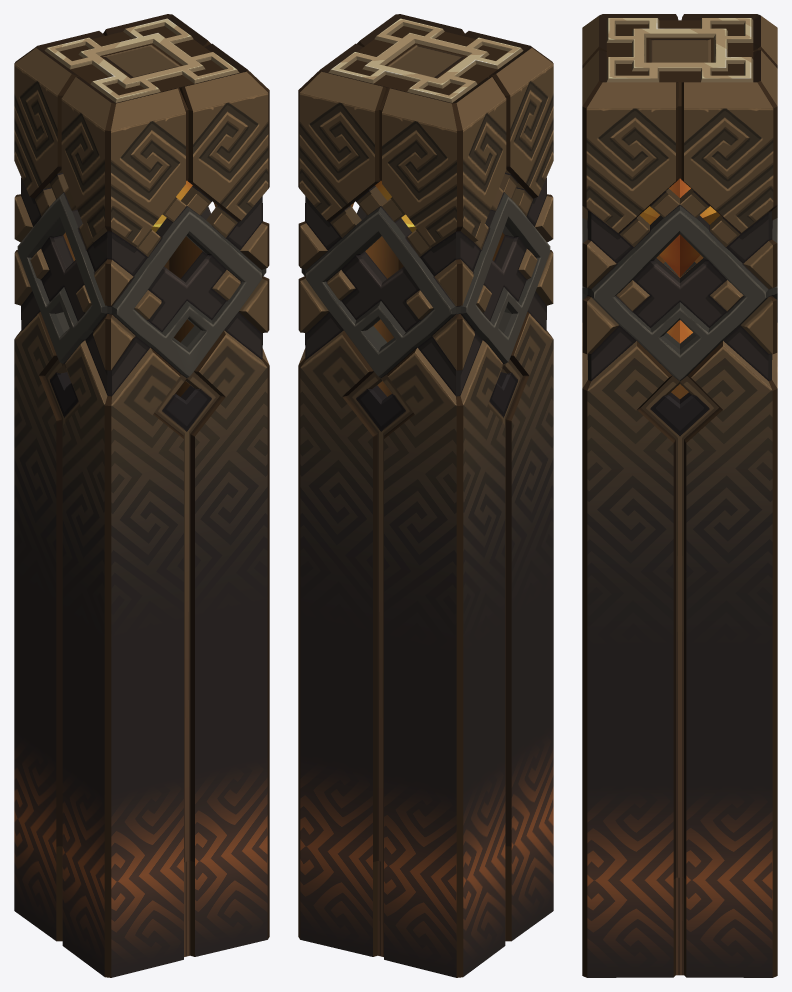
File: zhongli-pillar.gltf
The picture shows the model from 3 angles, left to right: view 1: azimuth 30°, elevation 25°; view 2: azimuth 150°, elevation 25°; view 3: azimuth 270°, elevation 25°; orthographic projection. The views are drawn at different scales.
Visible parts, largest first — view 1: 技能_mesh; view 2: 技能_mesh; view 3: 技能_mesh.
Boxes of the visible parts, left/top/right/bottom form: 技能_mesh: left=14, top=14, right=269, bottom=977; 技能_mesh: left=298, top=14, right=553, bottom=977; 技能_mesh: left=582, top=14, right=777, bottom=977.
Size of the model in its own units: 4.02 by 20.16 by 4.02.
Materials: 2 (2 with a texture image).
